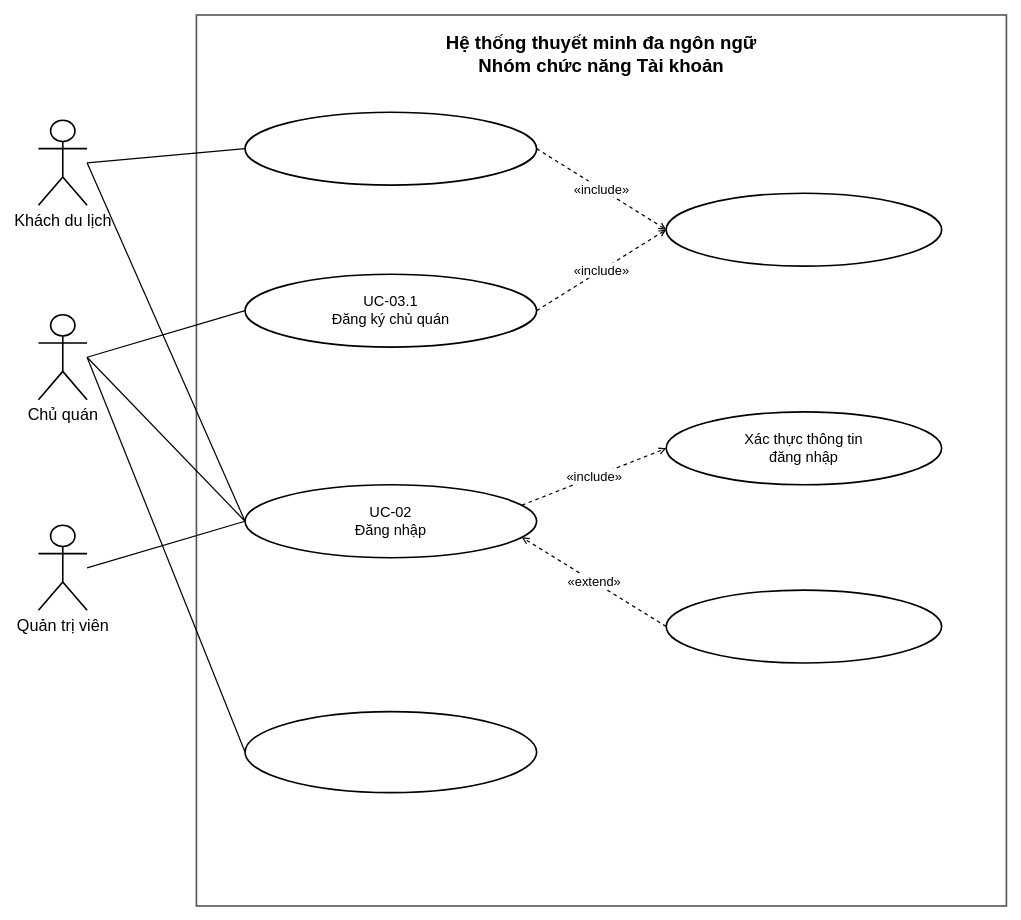
Some shapes in this 1021 by 920 pixel diagram are drawn without their labels. The box of each missing label's shape, as (x1, y1, x2, y2) in pixels:
Khóa tạm thời tài khoản do đăng nhập sai: (665, 589, 942, 663)
Kiểm tra dữ liệu đăng ký: (665, 192, 942, 266)
UC-01 Đăng ký tài khoản khách du lịch: (244, 111, 537, 185)
UC-03.2 Xem trạng thái yêu cầu đăng ký chủ quán: (244, 710, 537, 793)
